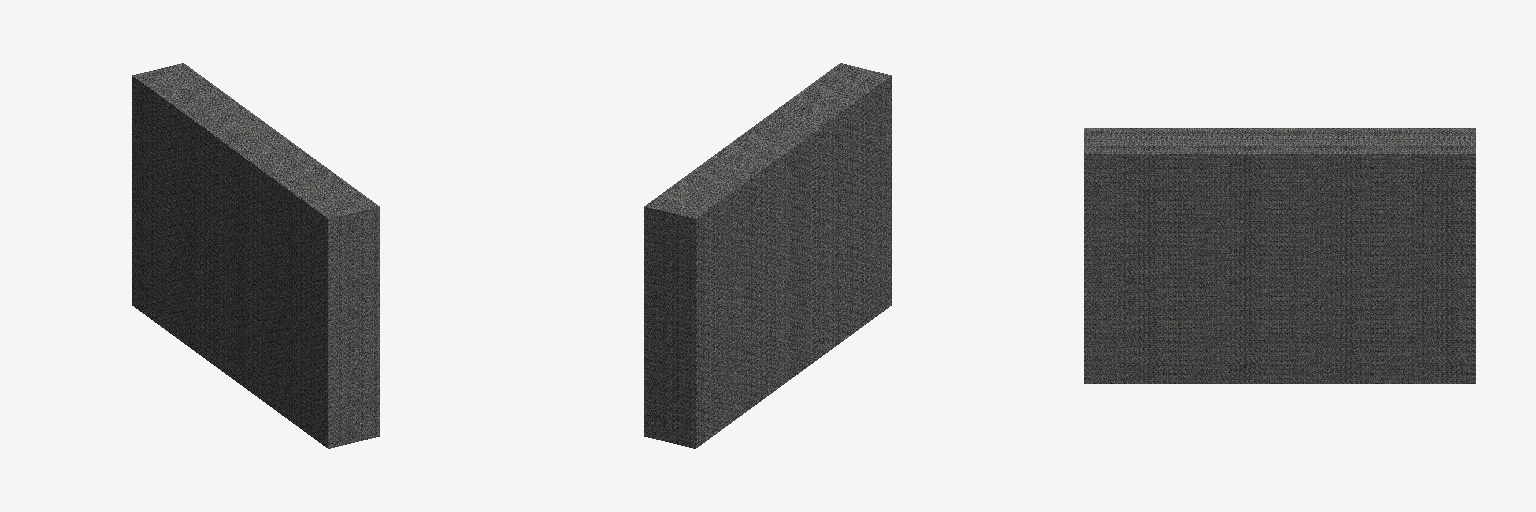
3 renders of one model, left to right at view 1: azimuth 30°, elevation 25°; view 2: azimuth 150°, elevation 25°; view 3: azimuth 270°, elevation 25°, orthographic.
Visible parts, largest first — view 1: scaffoldingdropoff; view 2: scaffoldingdropoff; view 3: scaffoldingdropoff.
Boxes of the visible parts, box(x1,y1,x2,y2) form: scaffoldingdropoff: box(132, 63, 379, 448); scaffoldingdropoff: box(644, 63, 891, 448); scaffoldingdropoff: box(1084, 128, 1475, 383).
Bounding box in the file's own units: 11.78 × 50.23 × 77.69.
Materials: 1 (1 with a texture image).